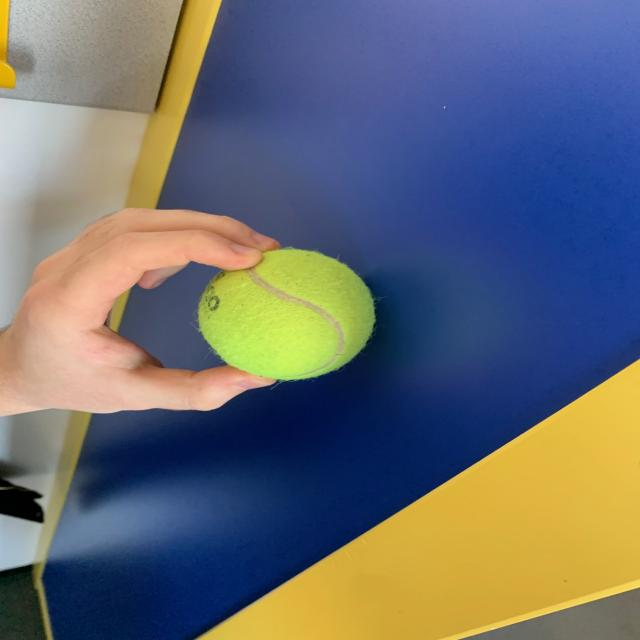Tennis-Ball: (185, 252, 388, 380)
